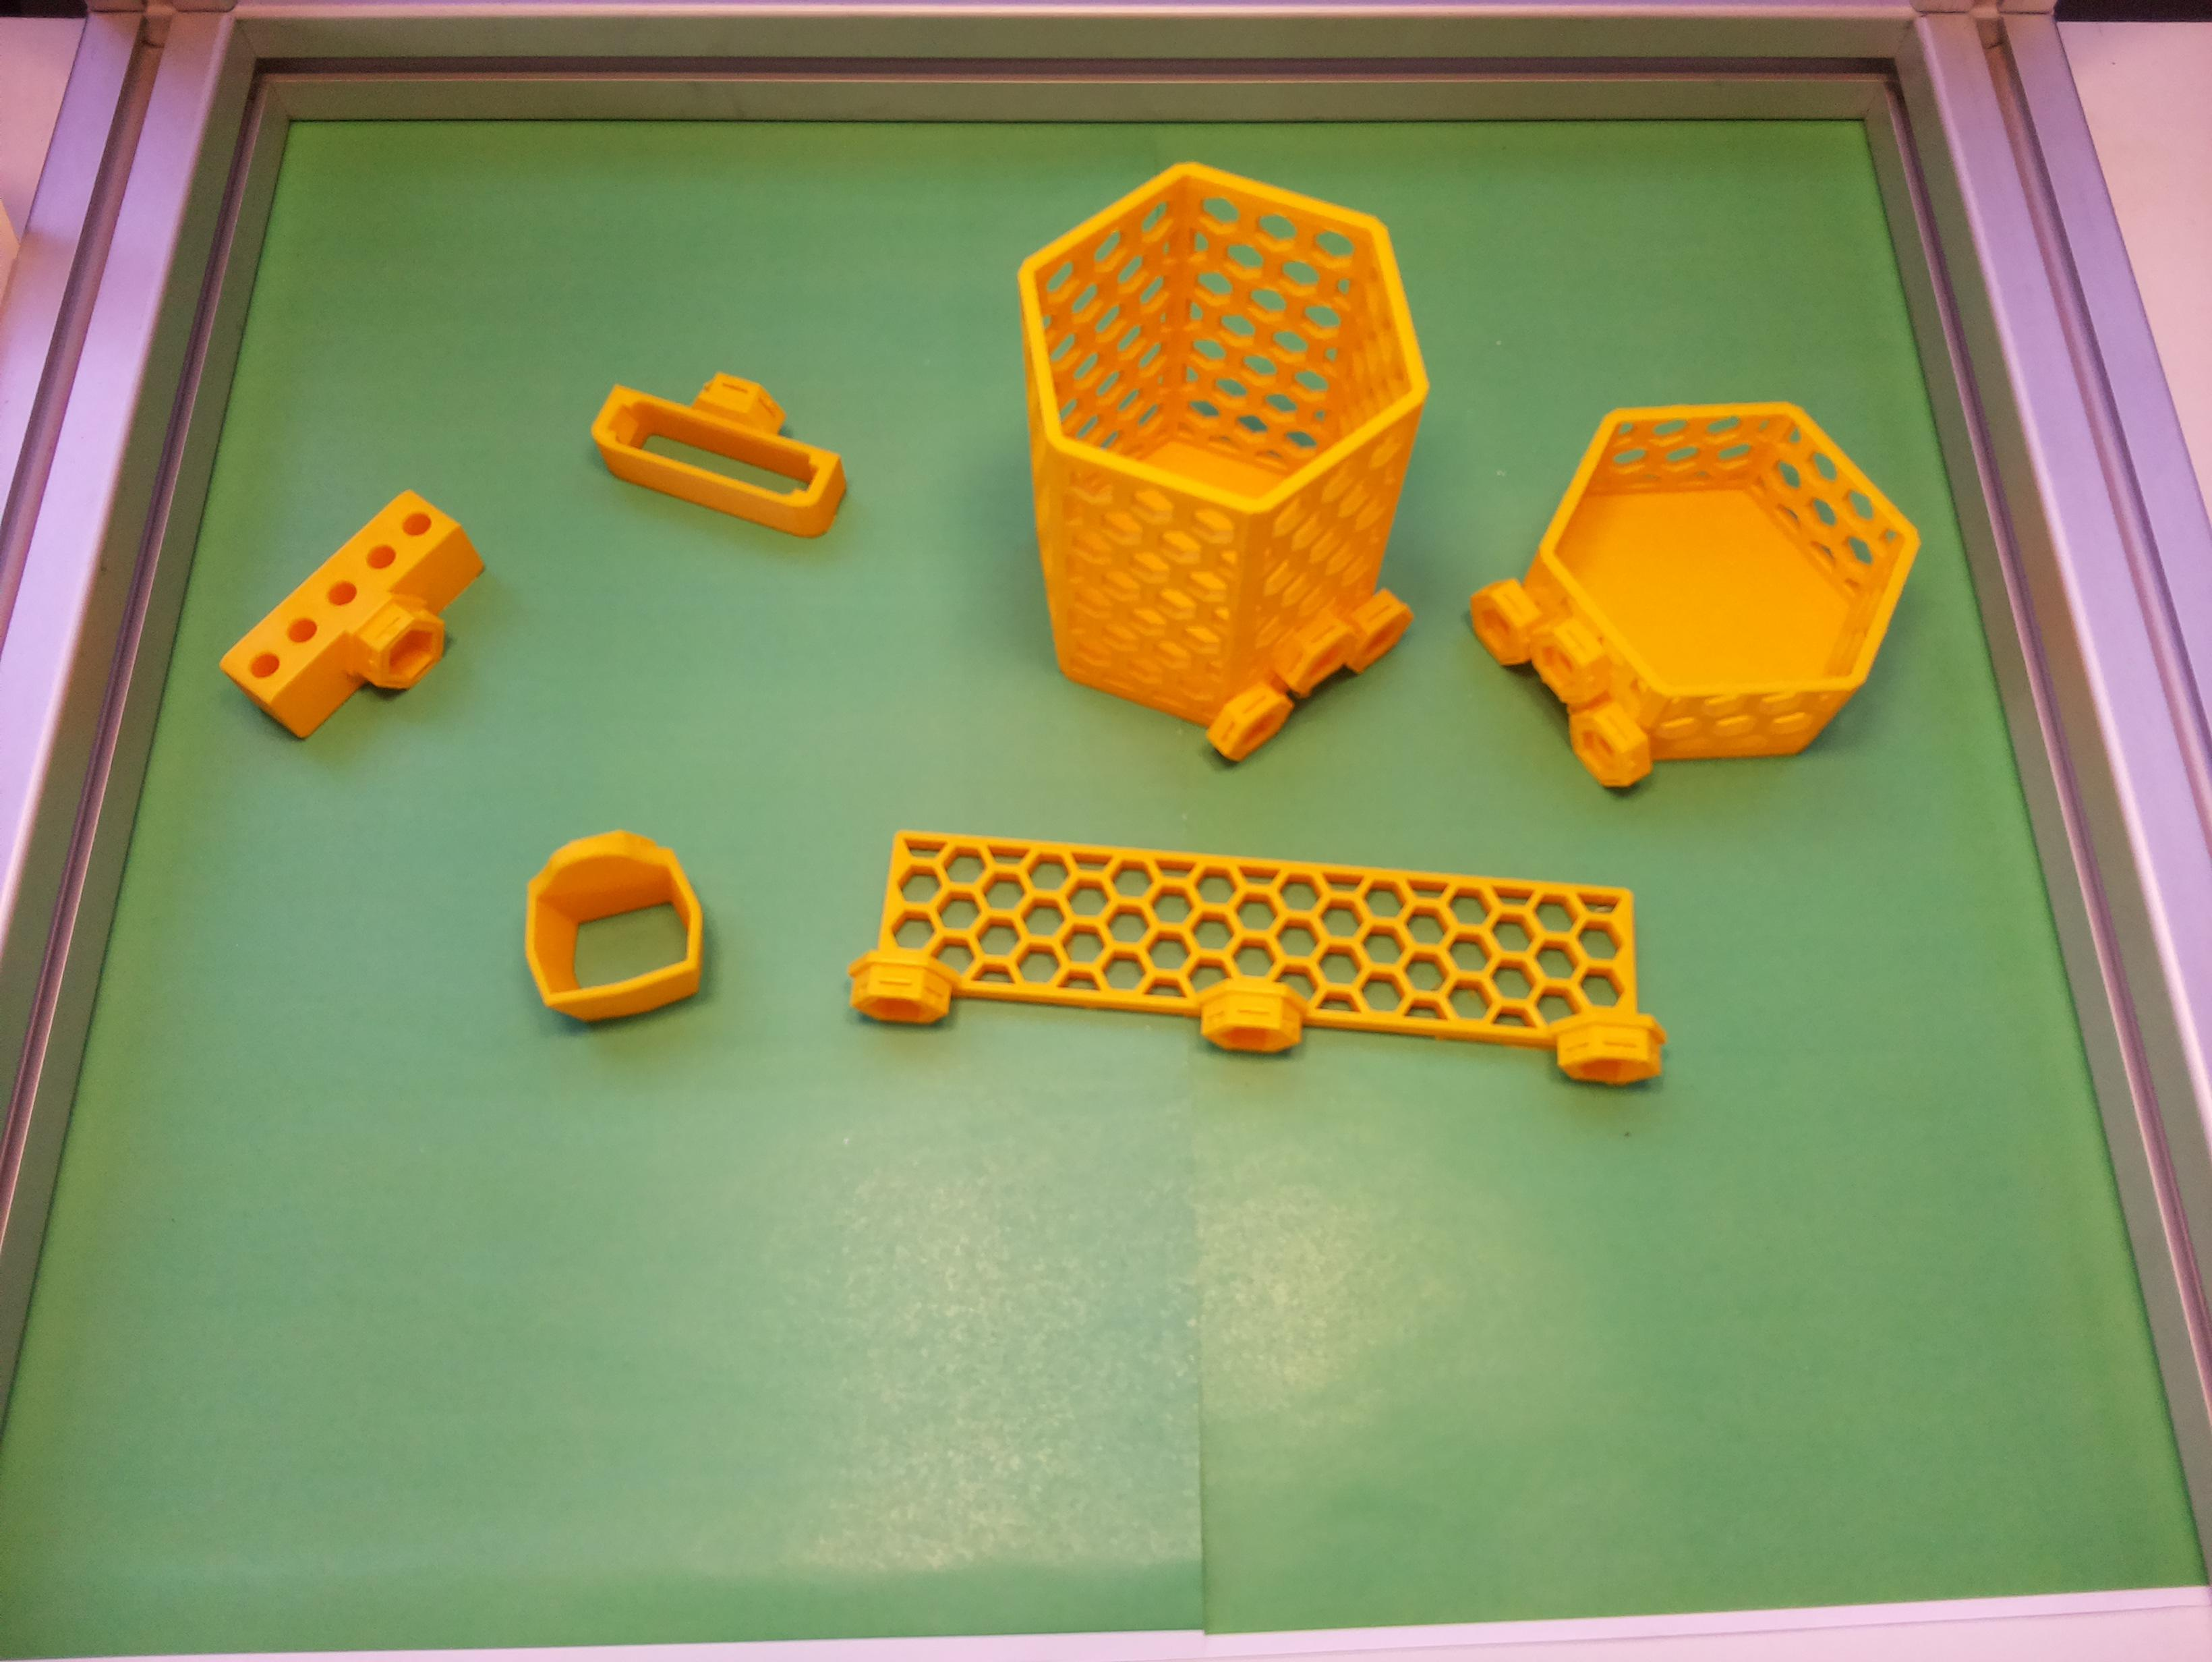bit_holder: (215, 475, 517, 773)
bottle_holder: (1421, 316, 1971, 868)
cup_holder: (1009, 145, 1456, 775)
cutter_holder: (580, 340, 868, 545)
scissor_holder: (510, 821, 718, 1030)
tool_holder: (845, 829, 1676, 1088)
